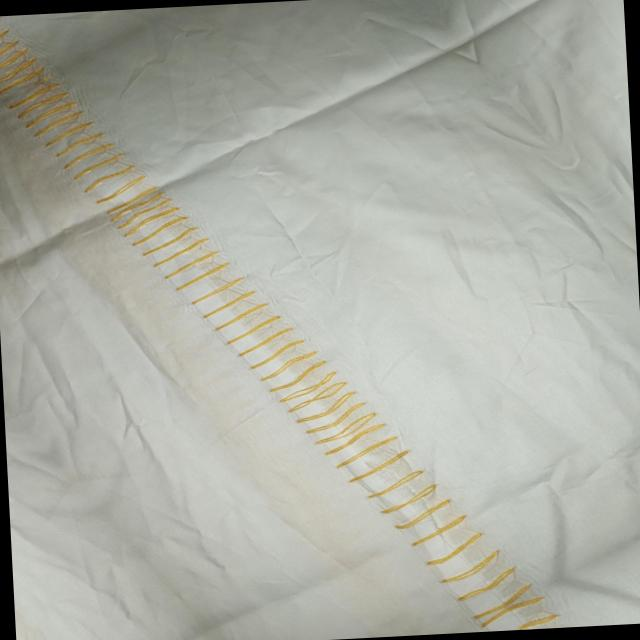gray stitch: (0, 10, 193, 288), (176, 240, 396, 468), (346, 452, 552, 638)
